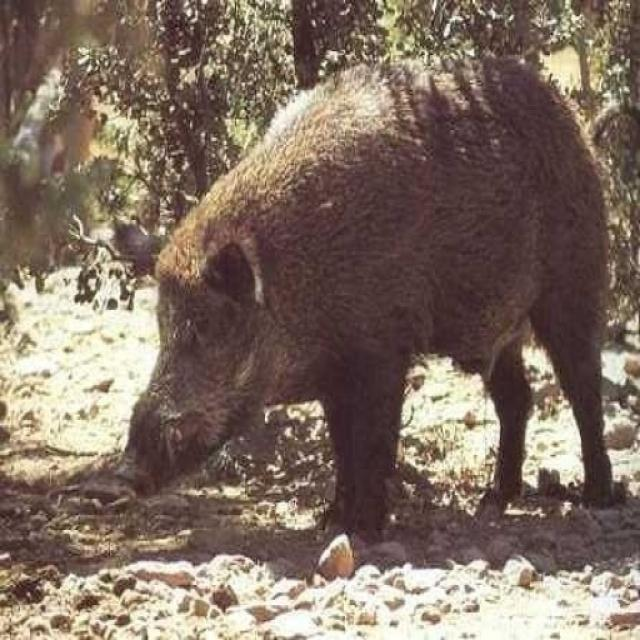pig: (114, 59, 640, 452)
